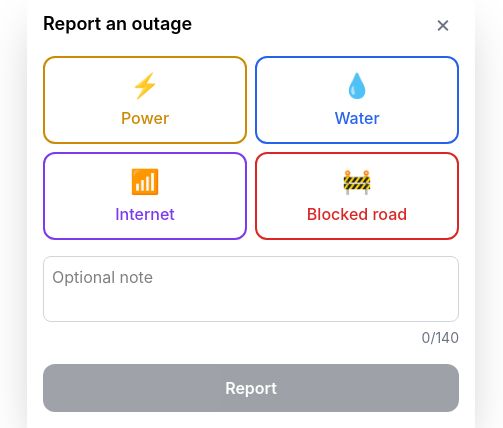
ReportForm › limits the note to 140 characters with a live counter
Type "No power" into the text box with placeholder "Optional note" at x=251, y=289, box [43,256,459,322]
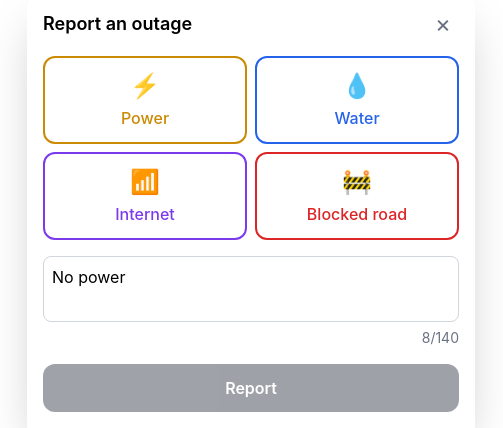
Expected: the text "8/140" is shown, [422,329,459,346]
